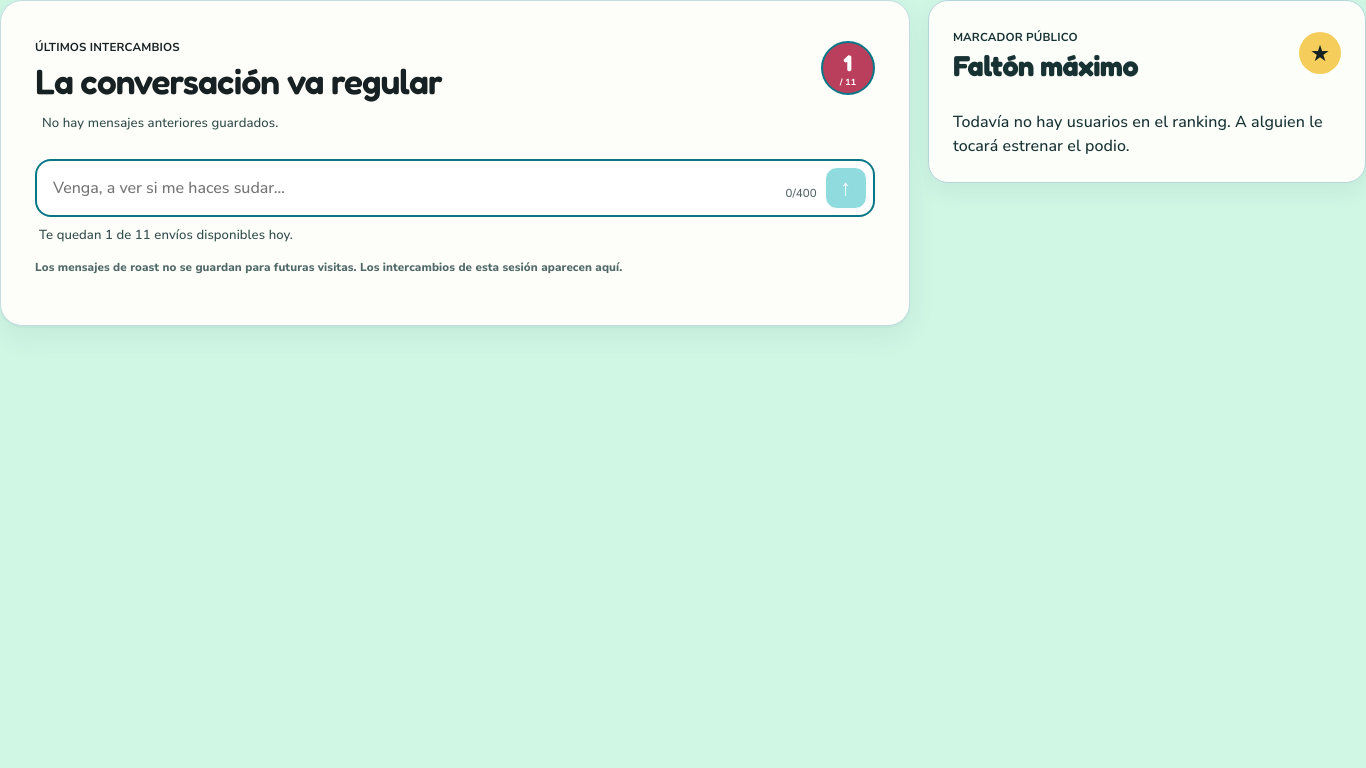
Test: Roast › shows the shared daily quota dialog when Faltón rejects an exhausted roast
The image size is (1366, 768).
Type "Una app que cobra por mis ideas" into the field named "tu insulto" at [410, 188], box [43,167,777,209]
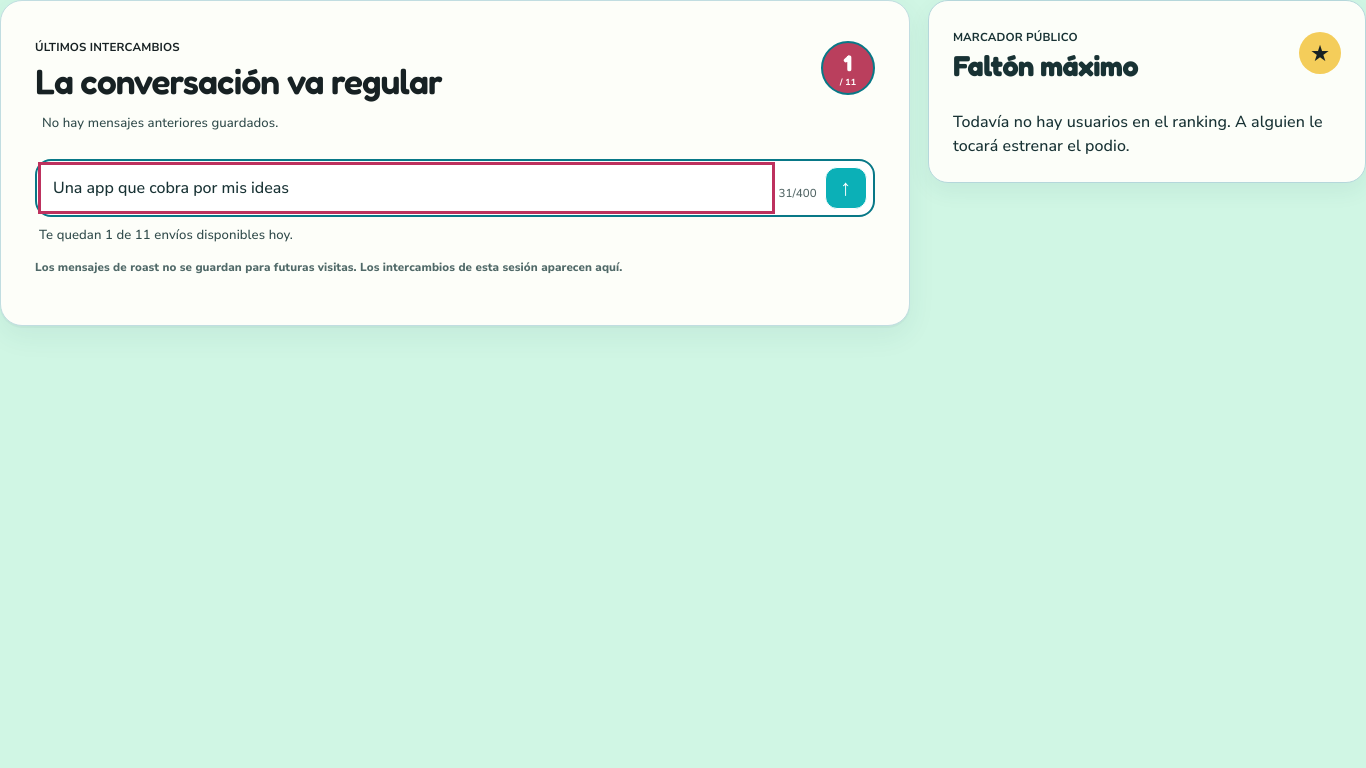
Click the button named "enviar insulto" at [846, 188], box [825,167,867,209]
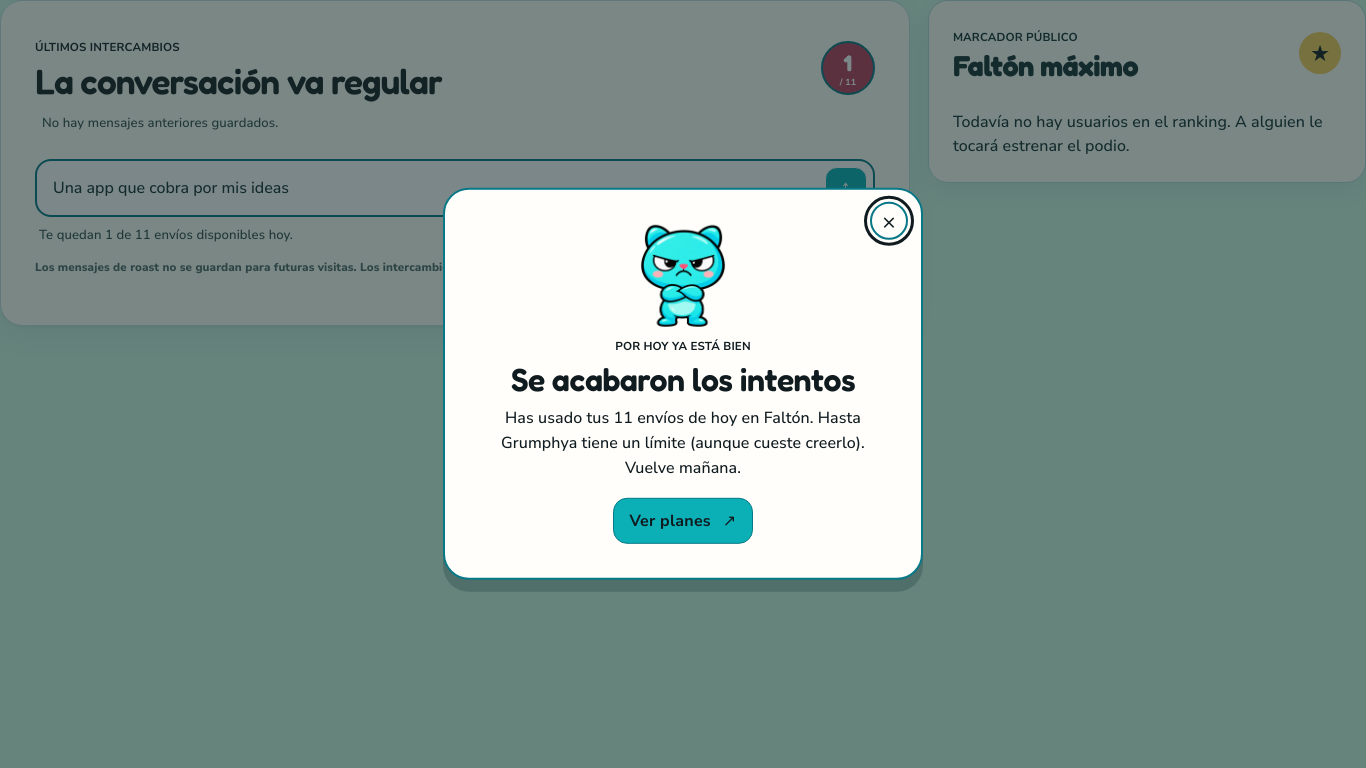
expect the dialog "Se acabaron los intentos" shows "11 envíos de hoy en faltón": met, box [501,407,865,478]
expect the dialog "Se acabaron los intentos" shows "vuelve mañana": met, box [501,407,865,478]
